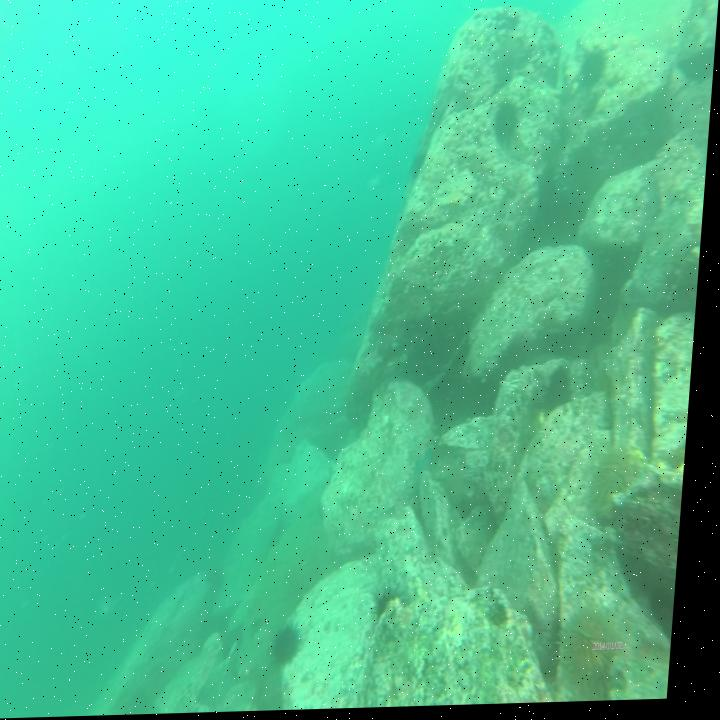echinus: (562, 607, 633, 706), (595, 450, 645, 527), (376, 583, 424, 635), (546, 367, 581, 430), (279, 624, 319, 673), (574, 45, 613, 95), (492, 97, 525, 154), (411, 147, 431, 182)
